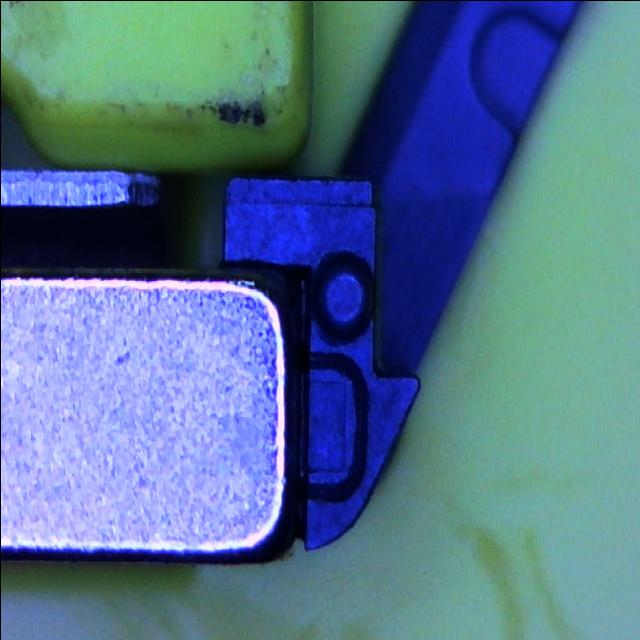lacking: (300, 349, 370, 504)
